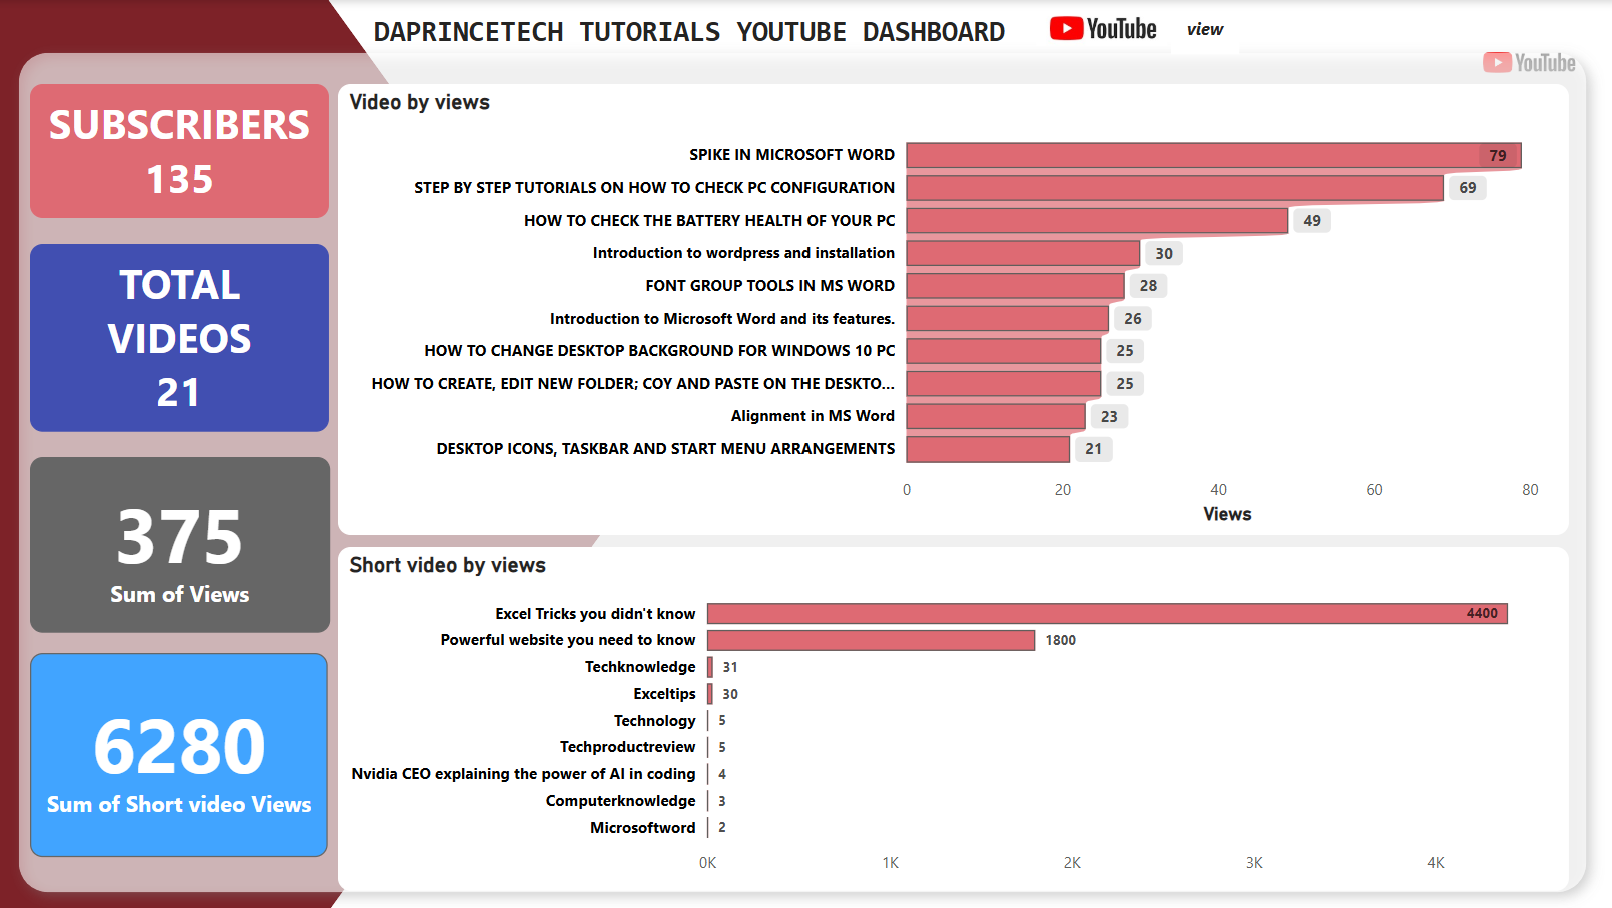

The dashboard page shown, as its layout file describes it:
{"tool":"powerbi","page":{"name":"Dashboard","canvas":[1280,720],"ordinal":0},"visuals":[{"type":"shape","box":[0,0,520.2,720.4],"z":0},{"type":"image","box":[1140.8,0,139.2,104.4],"z":1000},{"type":"shape","box":[0,26.9,1268.9,693],"z":2000},{"type":"barChart","title":"Video by views","fields":{"Category":["Long_videos.Video_Title"],"Y":["Sum(Long_videos.Views)"]},"box":[267.4,66.5,973.1,356],"z":3000},{"type":"shape","box":[13.6,40.9,221.4,647.6],"z":4000},{"type":"textbox","box":[24.3,66.7,236.6,106.2],"z":5000},{"type":"textbox","box":[24.3,192.6,236.6,148.6],"z":6000},{"type":"actionButton","title":"DAPRINCETECH TUTORIALS YOUTUBE DASHBOARD","box":[295.7,10.6,517.2,30.3],"z":7000},{"type":"image","box":[802.2,0,137.7,41.1],"z":8000},{"type":"textbox","box":[925.6,7.9,53.8,34.8],"z":9000},{"type":"card","fields":{"Values":["Sum(Long_videos.Views)"]},"box":[23.7,360.7,237.3,139.2],"z":10000},{"type":"card","fields":{"Values":["Sum(Shorts.Views)"]},"box":[23.7,515.8,235.7,161.4],"z":11000},{"type":"clusteredBarChart","title":"Short video by views","fields":{"Category":["Shorts.Video_Title"],"Y":["Sum(Shorts.Views)"]},"box":[267.4,431.9,973.1,272.1],"z":11001}]}

Visuals, with their boxes in screenshot pixels (x1, y1, x2, y2), scaled from the page's 1280x720 canvas onto the 1612x908 screenshot:
shape: {"x1": 0, "y1": 0, "x2": 655, "y2": 907}
image: {"x1": 1437, "y1": 0, "x2": 1611, "y2": 132}
shape: {"x1": 0, "y1": 34, "x2": 1598, "y2": 907}
"Video by views" barChart: {"x1": 337, "y1": 84, "x2": 1562, "y2": 533}
shape: {"x1": 17, "y1": 52, "x2": 296, "y2": 868}
textbox: {"x1": 31, "y1": 84, "x2": 329, "y2": 218}
textbox: {"x1": 31, "y1": 243, "x2": 329, "y2": 430}
"DAPRINCETECH TUTORIALS YOUTUBE DASHBOARD" actionButton: {"x1": 372, "y1": 13, "x2": 1024, "y2": 52}
image: {"x1": 1010, "y1": 0, "x2": 1184, "y2": 52}
textbox: {"x1": 1166, "y1": 10, "x2": 1233, "y2": 54}
card - Sum(Long_videos.Views): {"x1": 30, "y1": 455, "x2": 329, "y2": 630}
card - Sum(Shorts.Views): {"x1": 30, "y1": 650, "x2": 327, "y2": 854}
"Short video by views" clusteredBarChart: {"x1": 337, "y1": 545, "x2": 1562, "y2": 888}
